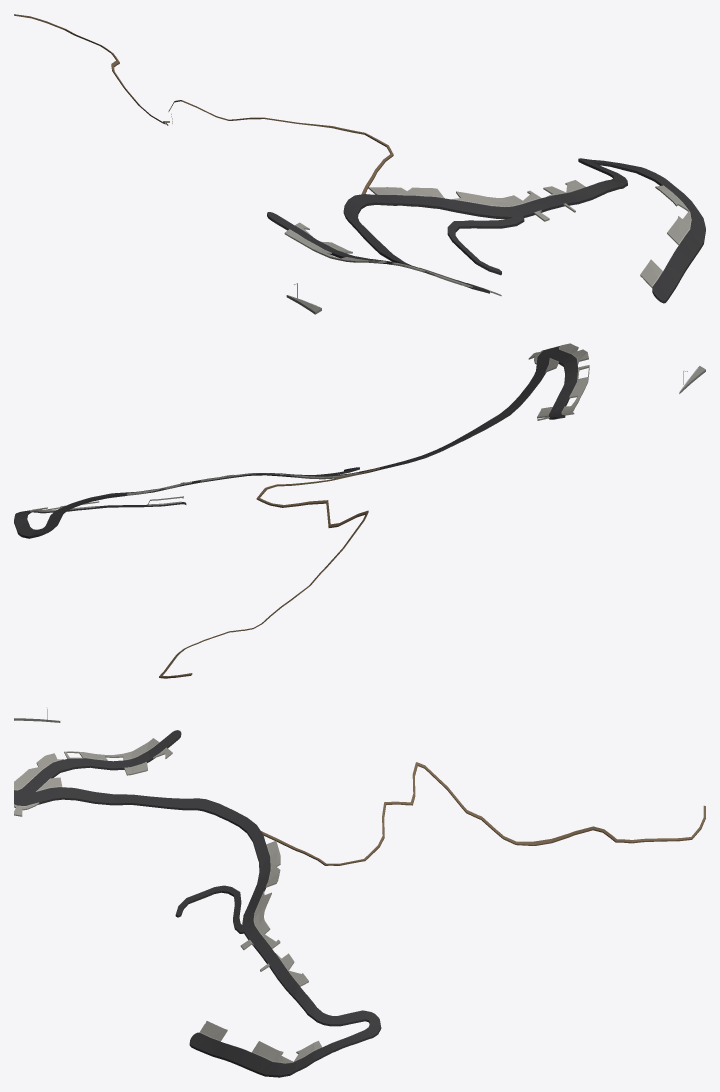
3 renders of one model, top to bottom at view 1: azimuth 30°, elevation 25°; view 2: azimuth 150°, elevation 25°; view 3: azimuth 270°, elevation 25°, orthographic. The views are drawn at different scales.
Bounding box in the file's own units: 286 × 95.9 × 379.
